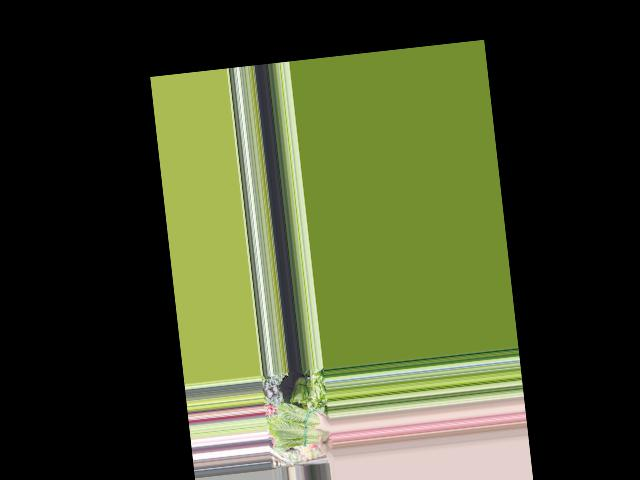lettuce: (268, 397, 333, 451)
